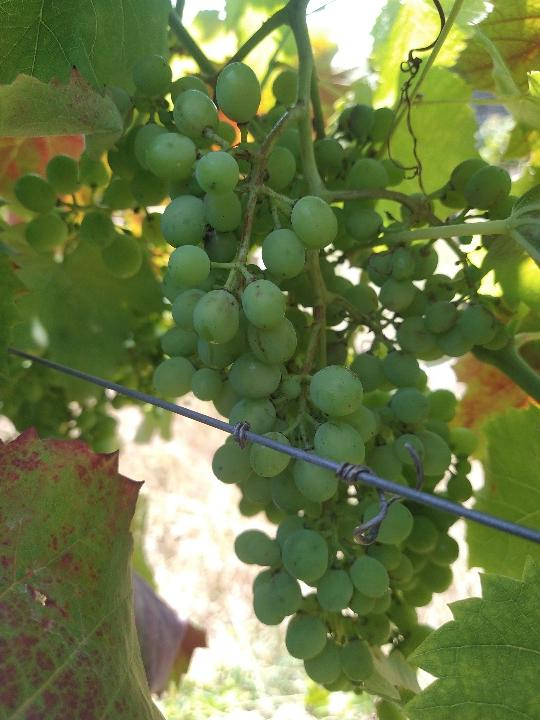grape: (9, 57, 517, 695)
